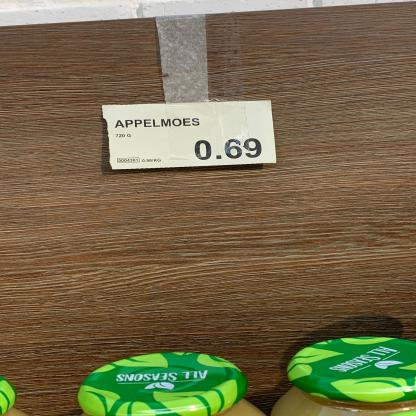prtg: (109, 102, 277, 169)
